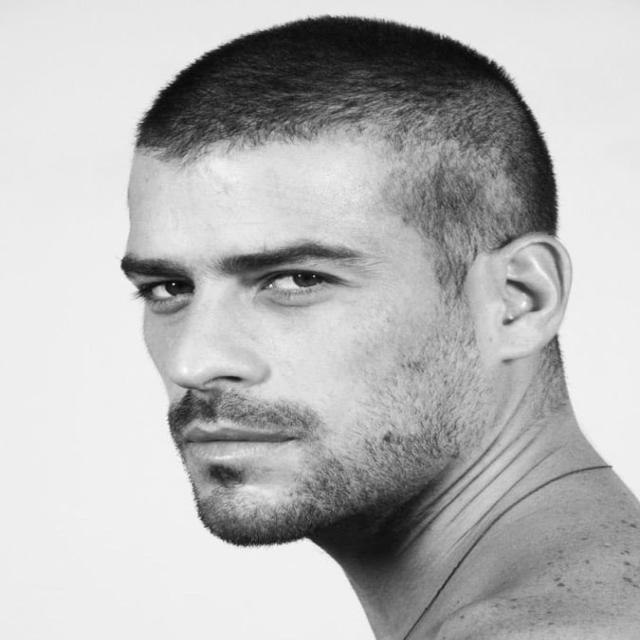mobile_phonerotation: (118, 14, 637, 638)
